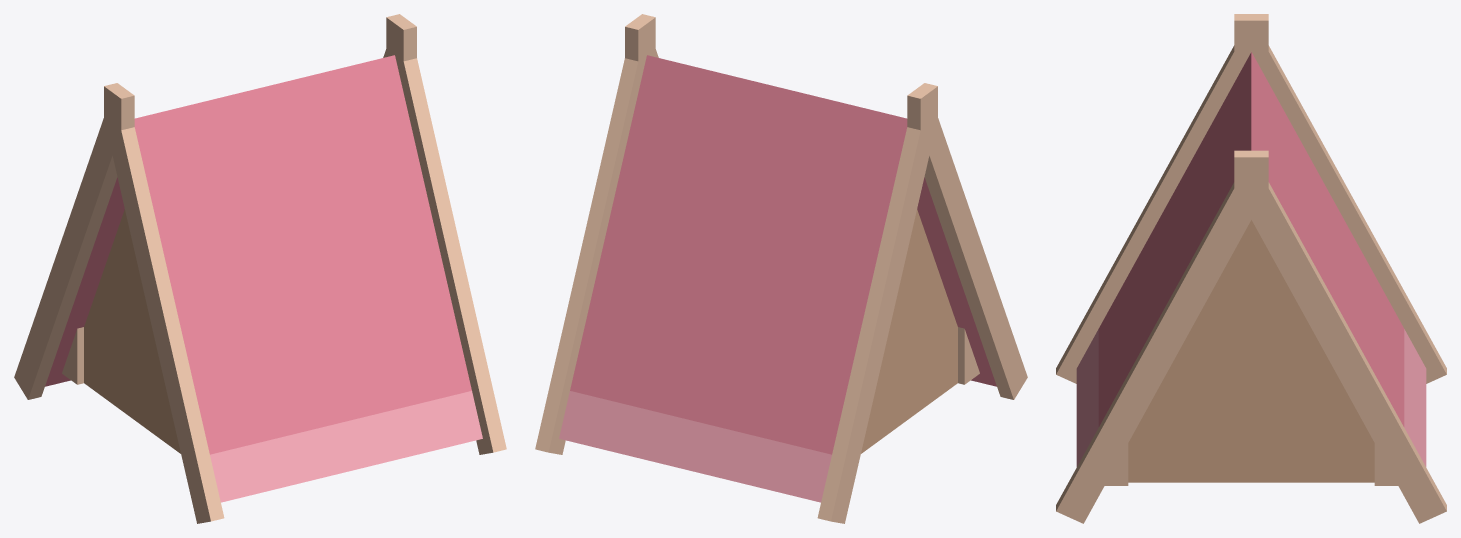
3 views of the same model, side by side, from view 1: azimuth 30°, elevation 25°; view 2: azimuth 150°, elevation 25°; view 3: azimuth 270°, elevation 25° (orthographic).
Parts seen in each view (by area): view 1: roofHighGableDetail; view 2: roofHighGableDetail; view 3: roofHighGableDetail.
Boxes of the visible parts, bbox=[...] form: roofHighGableDetail: bbox=[14, 14, 506, 523]; roofHighGableDetail: bbox=[535, 14, 1027, 523]; roofHighGableDetail: bbox=[1056, 14, 1446, 523].
Size of the model in its own units: 1.1 by 1.31 by 1.27.
